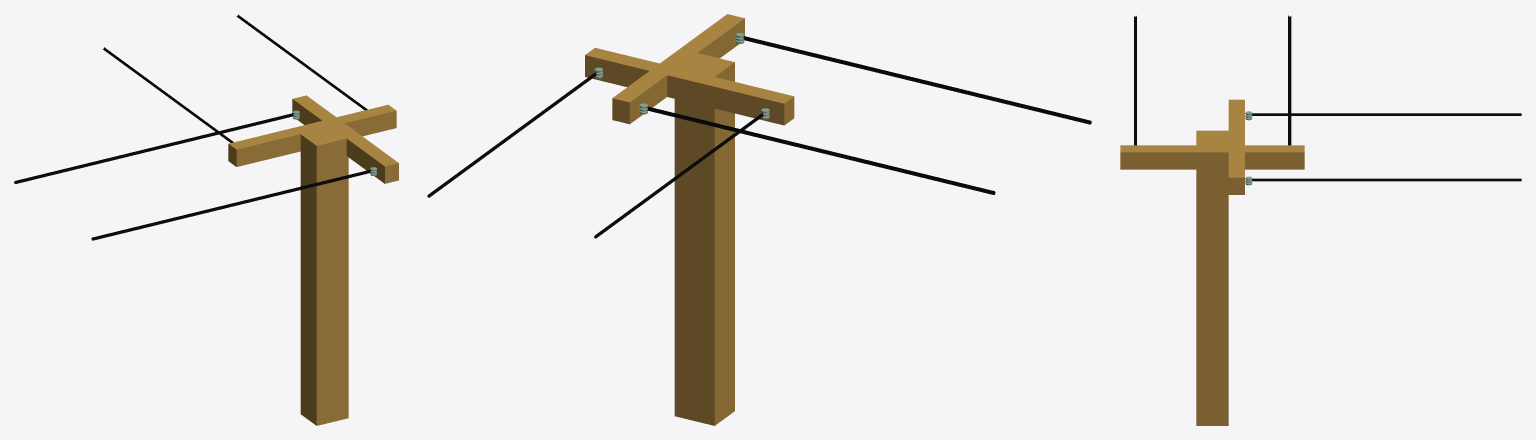
3 views of the same model, side by side, from view 1: azimuth 30°, elevation 25°; view 2: azimuth 150°, elevation 25°; view 3: azimuth 270°, elevation 25° (orthographic). The views are drawn at different scales.
Parts seen in each view (by area): view 1: WR22 | archived geometry, WR22 | line, light and sprite surfaces; view 2: WR22 | archived geometry, WR22 | line, light and sprite surfaces; view 3: WR22 | archived geometry, WR22 | line, light and sprite surfaces.
Part boxes in pixels (x1,y1,x2,y2): WR22 | archived geometry: (228,95,398,425); WR22 | line, light and sprite surfaces: (14,14,370,240); WR22 | archived geometry: (585,14,794,425); WR22 | line, light and sprite surfaces: (427,36,1091,238); WR22 | archived geometry: (1120,99,1304,425); WR22 | line, light and sprite surfaces: (1134,15,1521,181).
Size of the model in its own units: 10.49 by 8 by 10.4.
